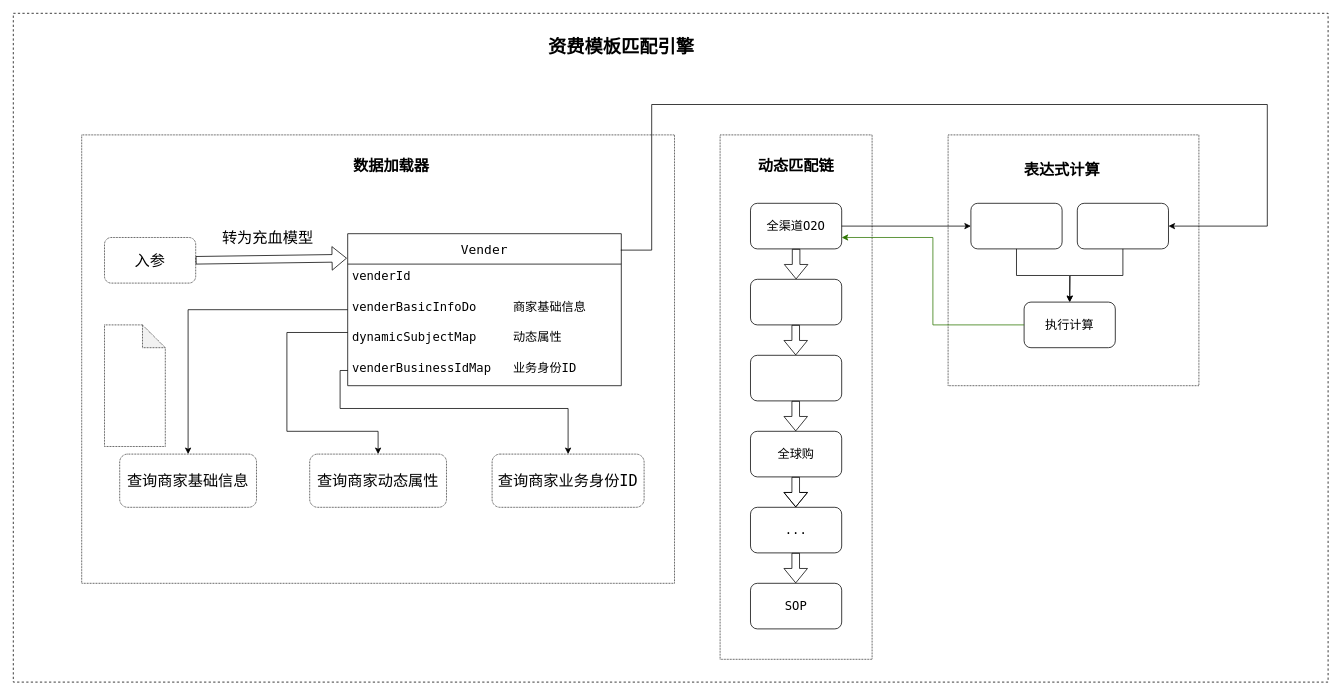
Some shapes in this 1341 by 695 pixel diagram are drawn without their labels. Each missing label, with the box of its shape:
全渠道新通路: (750, 279, 842, 325)
开普勒: (750, 355, 842, 401)
数据: (1077, 203, 1168, 249)
数据可在被使用时触发加载: (104, 324, 165, 446)
表达式: (970, 203, 1062, 249)
